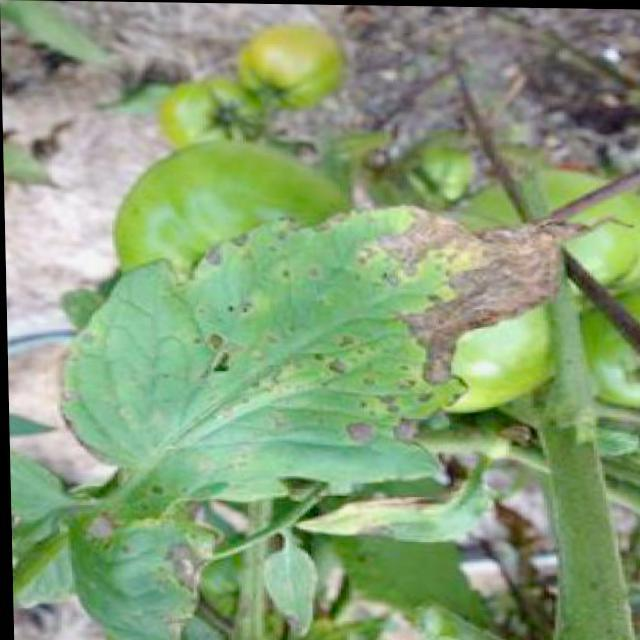Tomato late blight leaf: (48, 207, 626, 510)
